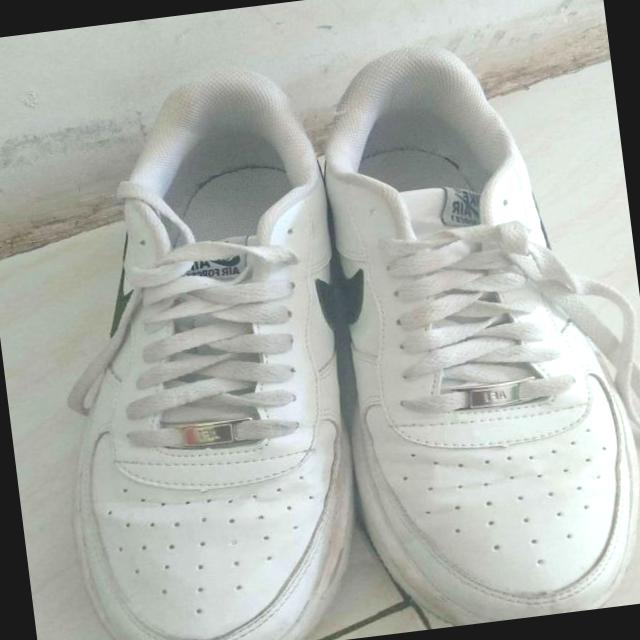nike_fake_airforce: (16, 61, 380, 640), (308, 25, 640, 635)
